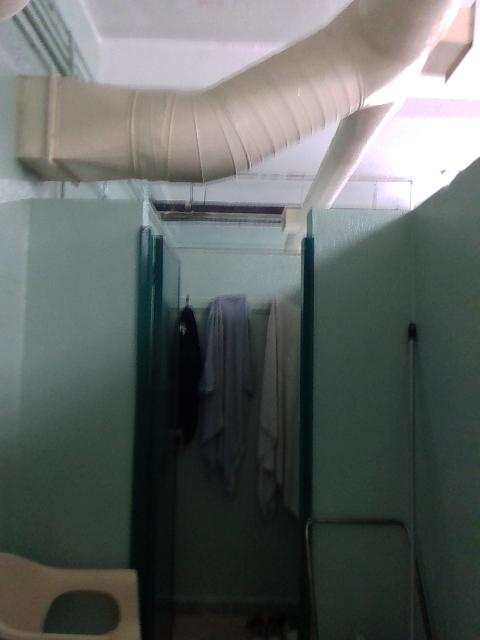open_door: (132, 238, 314, 563)
